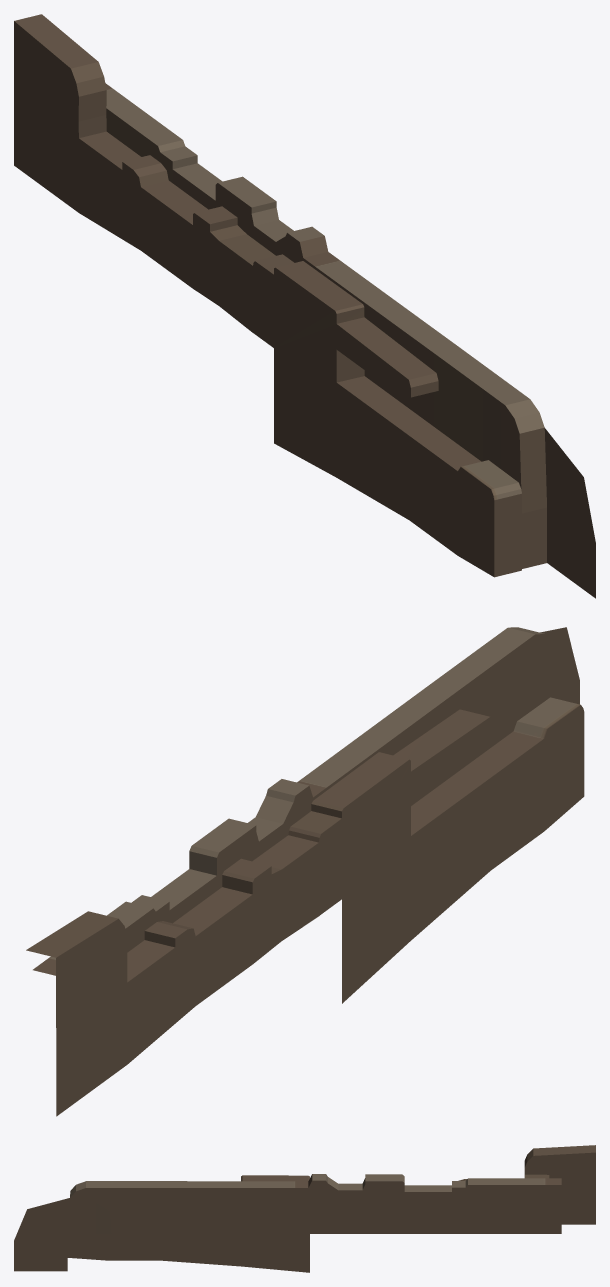
Rendered from Nivel1-1.fbx.
3 renders of one model, top to bottom at view 1: azimuth 30°, elevation 25°; view 2: azimuth 150°, elevation 25°; view 3: azimuth 270°, elevation 25°, orthographic. The views are drawn at different scales.
Visible parts, largest first — view 1: Terreno_0, Terreno_0.002, Terreno_0.001; view 2: Terreno_0, Terreno_0.002; view 3: Terreno_0, Terreno_0.002.
Part boxes in pixels (left/top/right/bottom): Terreno_0: left=14, top=21, right=595, bottom=598; Terreno_0.002: left=14, top=14, right=521, bottom=577; Terreno_0.001: left=56, top=106, right=106, bottom=137; Terreno_0: left=33, top=627, right=584, bottom=1116; Terreno_0.002: left=26, top=697, right=580, bottom=982; Terreno_0: left=14, top=1152, right=595, bottom=1272; Terreno_0.002: left=241, top=1145, right=595, bottom=1181.
Bounding box in the file's own units: 1333 × 5601 × 23131.
